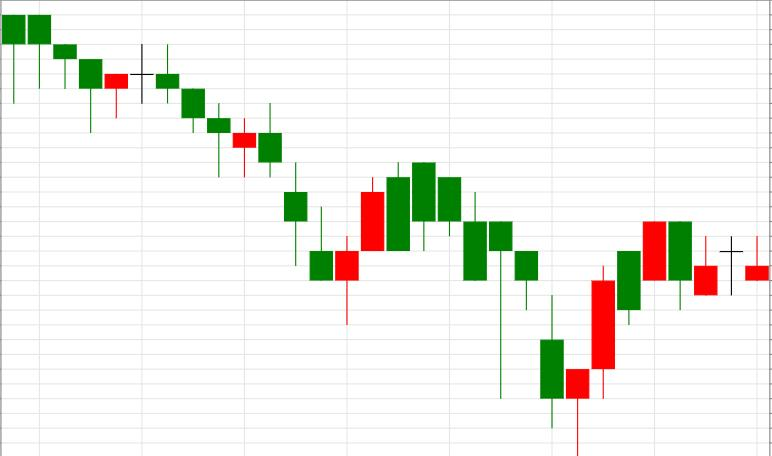hammer_rise: (412, 163, 589, 456)
inverse_hammer_rise: (156, 45, 333, 280)
